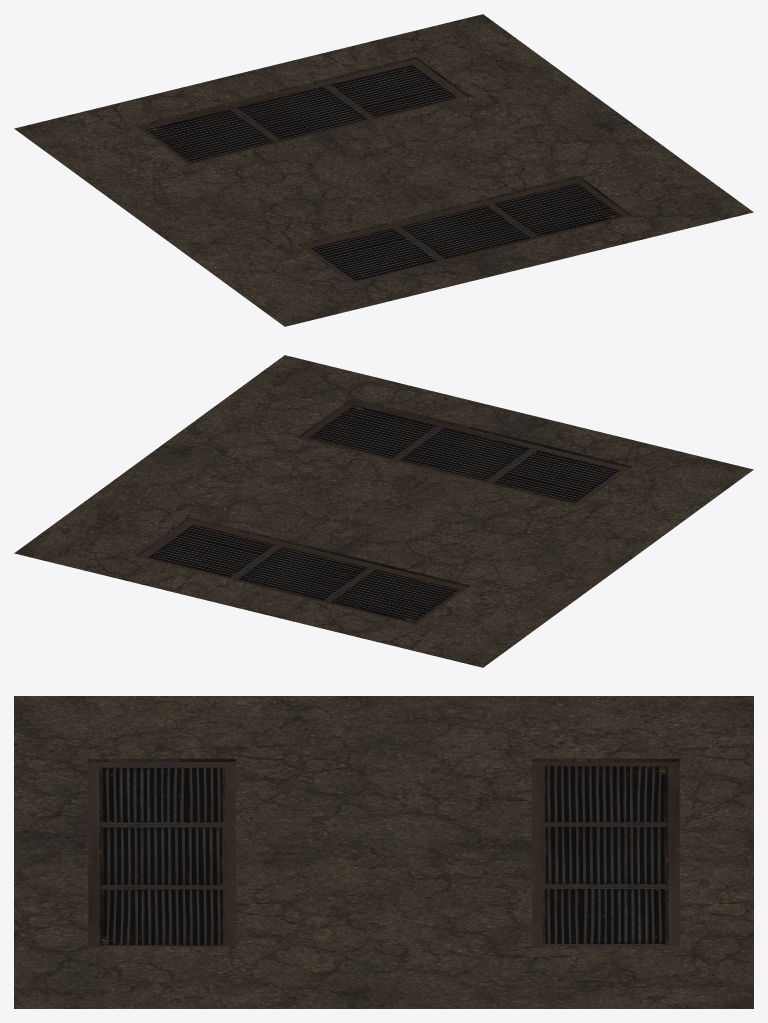
The model's file is asphalt_hr_3.obj.
3 renders of one model, top to bottom at view 1: azimuth 30°, elevation 25°; view 2: azimuth 150°, elevation 25°; view 3: azimuth 270°, elevation 25°, orthographic. The views are drawn at different scales.
Visible parts, largest first — view 1: asphalt_hr_3; view 2: asphalt_hr_3; view 3: asphalt_hr_3.
Part boxes in pixels (<box>): asphalt_hr_3: <box>14,14,753,326</box>; asphalt_hr_3: <box>14,355,753,667</box>; asphalt_hr_3: <box>14,696,753,1008</box>.
Size of the model in its own units: 4 by 0.02 by 4.
